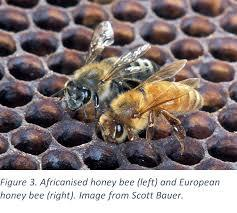Apis-mellifera-scutellata: (85, 60, 211, 150), (56, 17, 168, 116)
